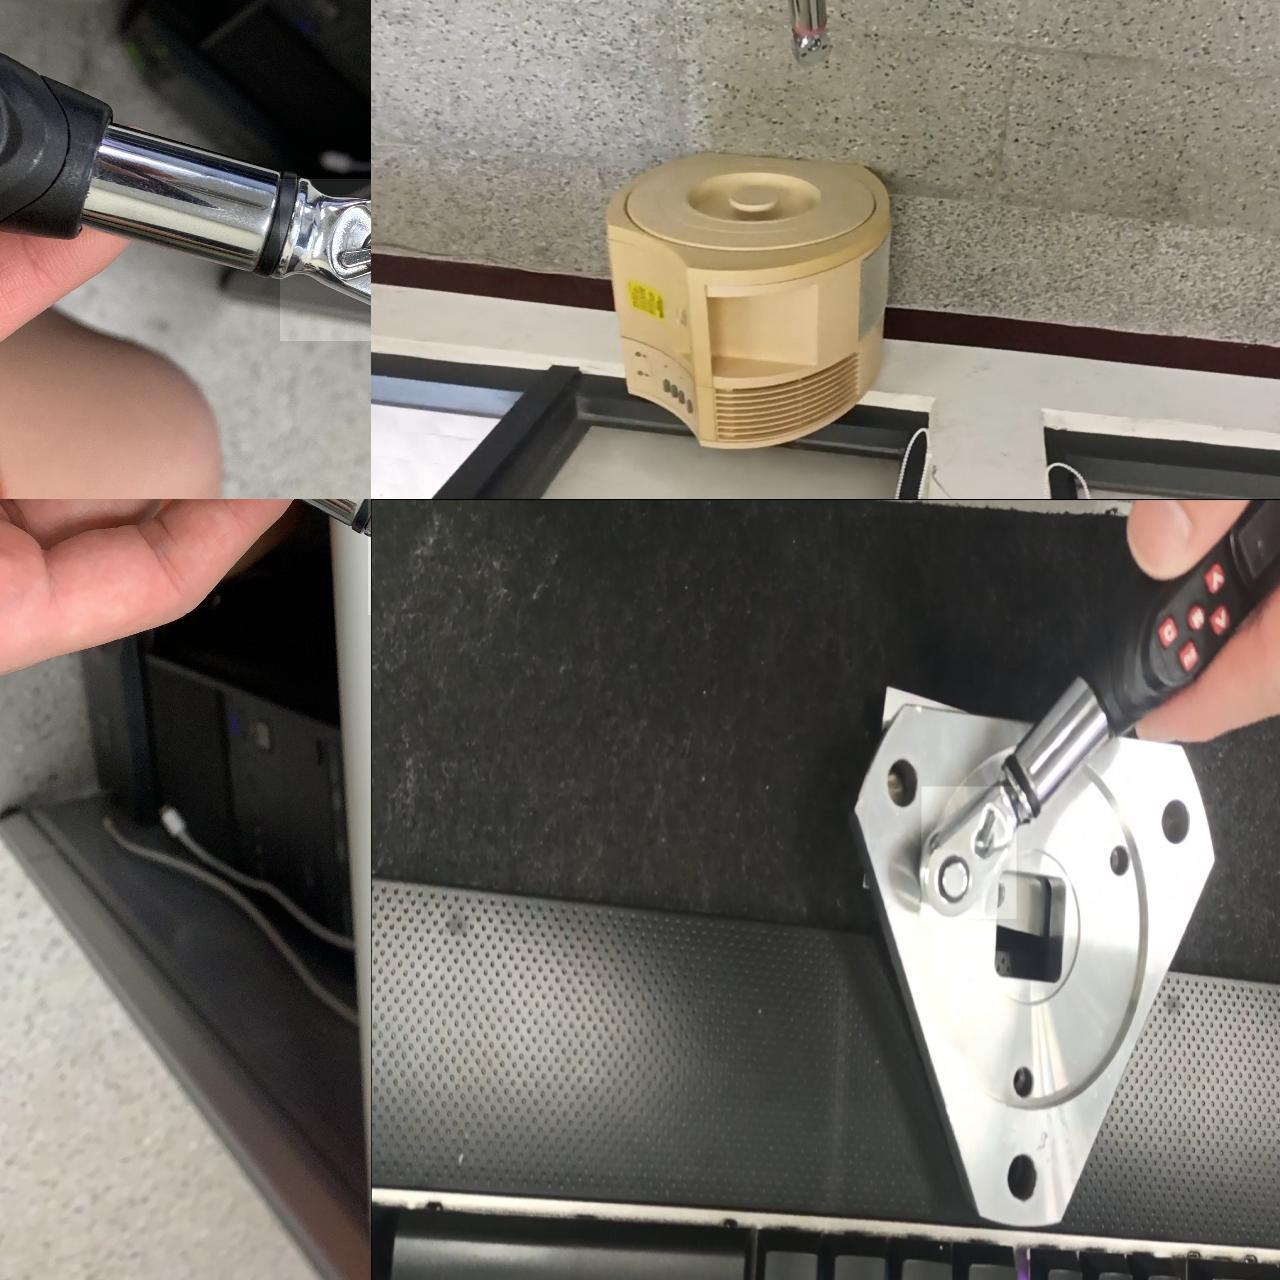Tool: (279, 178, 372, 340), (920, 785, 1015, 918)
